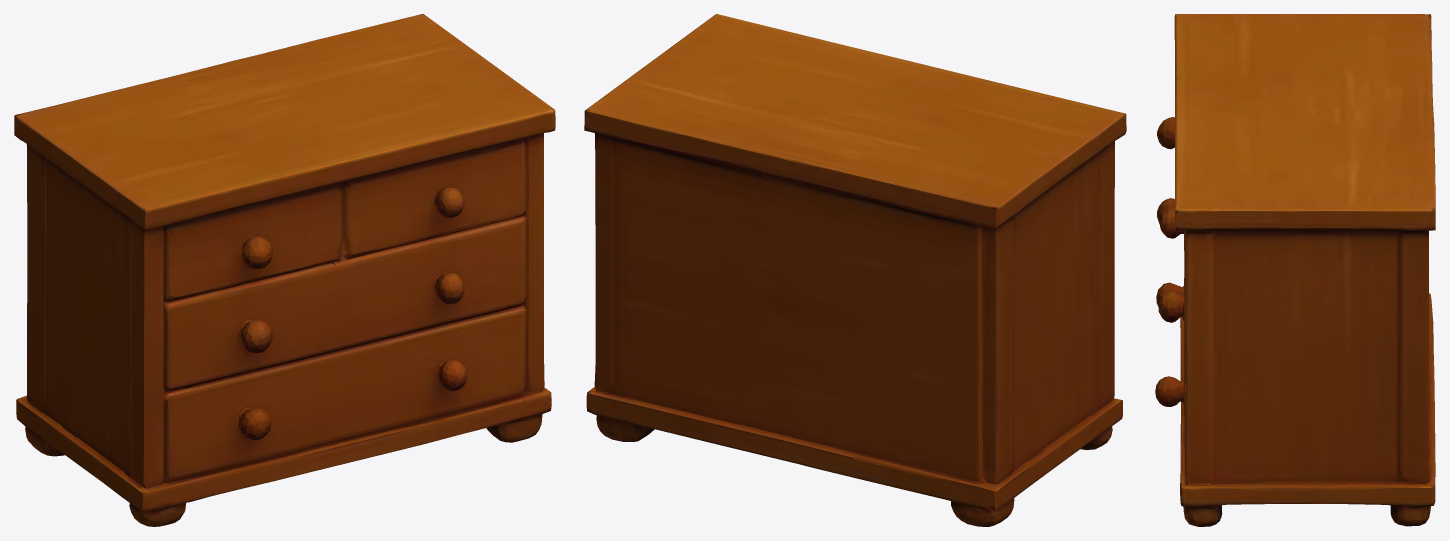
3 renders of one model, left to right at view 1: azimuth 30°, elevation 25°; view 2: azimuth 150°, elevation 25°; view 3: azimuth 270°, elevation 25°, orthographic. The views are drawn at different scales.
Visible parts, largest first — view 1: world; view 2: world; view 3: world.
Part boxes in pixels (<box>): world: <box>14,14,555,526</box>; world: <box>584,14,1126,526</box>; world: <box>1155,14,1435,526</box>.
Size of the model in its own units: 0.4867 by 0.3719 by 0.2927.
Materials: 1 (1 with a texture image).
